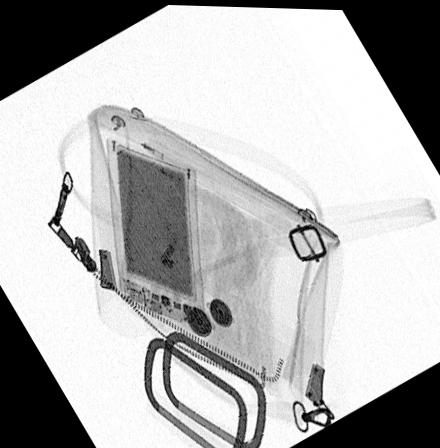Powerbank: (107, 135, 204, 334)
